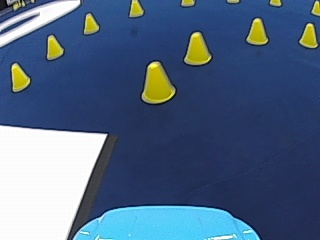cone: (140, 59, 175, 103), (183, 30, 212, 65), (245, 16, 269, 45), (10, 62, 30, 91), (298, 22, 318, 48), (45, 33, 63, 58), (82, 12, 98, 34), (128, 0, 143, 17), (310, 0, 319, 15)
